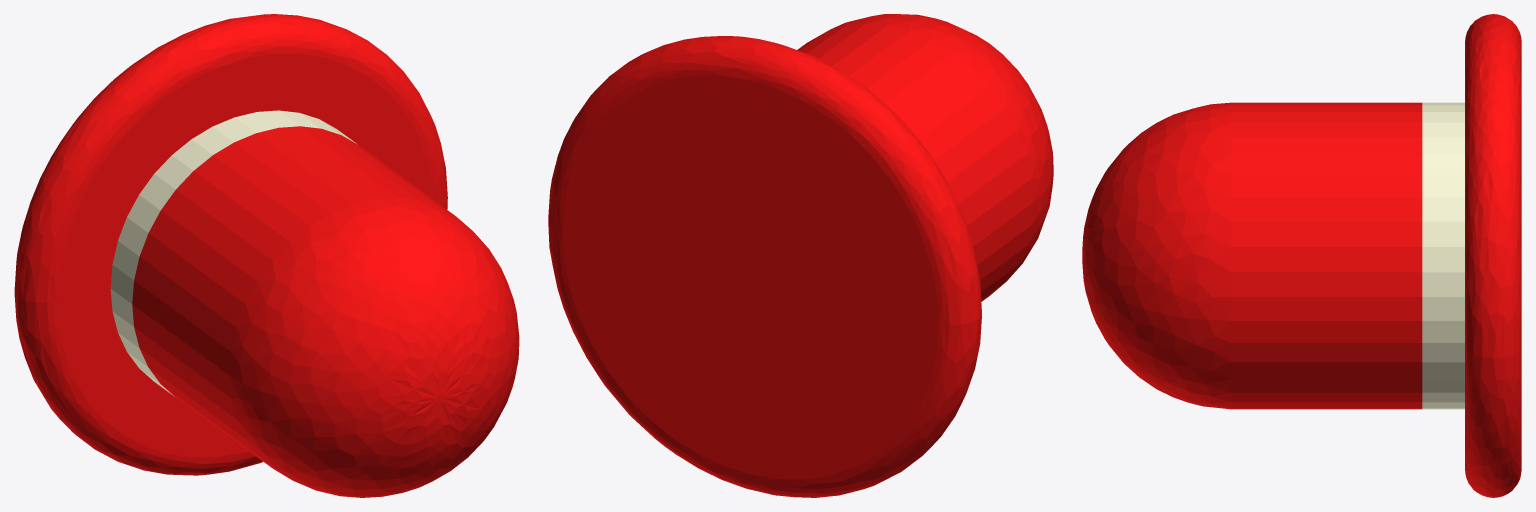
Rendered from fengxian.fbx.
3 views of the same model, side by side, from view 1: azimuth 30°, elevation 25°; view 2: azimuth 150°, elevation 25°; view 3: azimuth 270°, elevation 25° (orthographic).
Visible parts, largest first — view 1: G_1_3_1, skpB97C1, G_2_2_1; view 2: skpB97C1, G_1_3_1; view 3: G_1_3_1, skpB97C1, G_2_2_1.
Boxes of the visible parts, x1,y1,x2,y2 form: G_1_3_1: [132, 126, 519, 497]; skpB97C1: [14, 14, 447, 475]; G_2_2_1: [110, 110, 357, 396]; skpB97C1: [548, 36, 981, 497]; G_1_3_1: [797, 14, 1053, 301]; G_1_3_1: [1082, 102, 1422, 409]; skpB97C1: [1465, 14, 1521, 497]; G_2_2_1: [1422, 102, 1464, 409].
Bounding box in the file's own units: 1.36 × 1.36 × 1.24.
